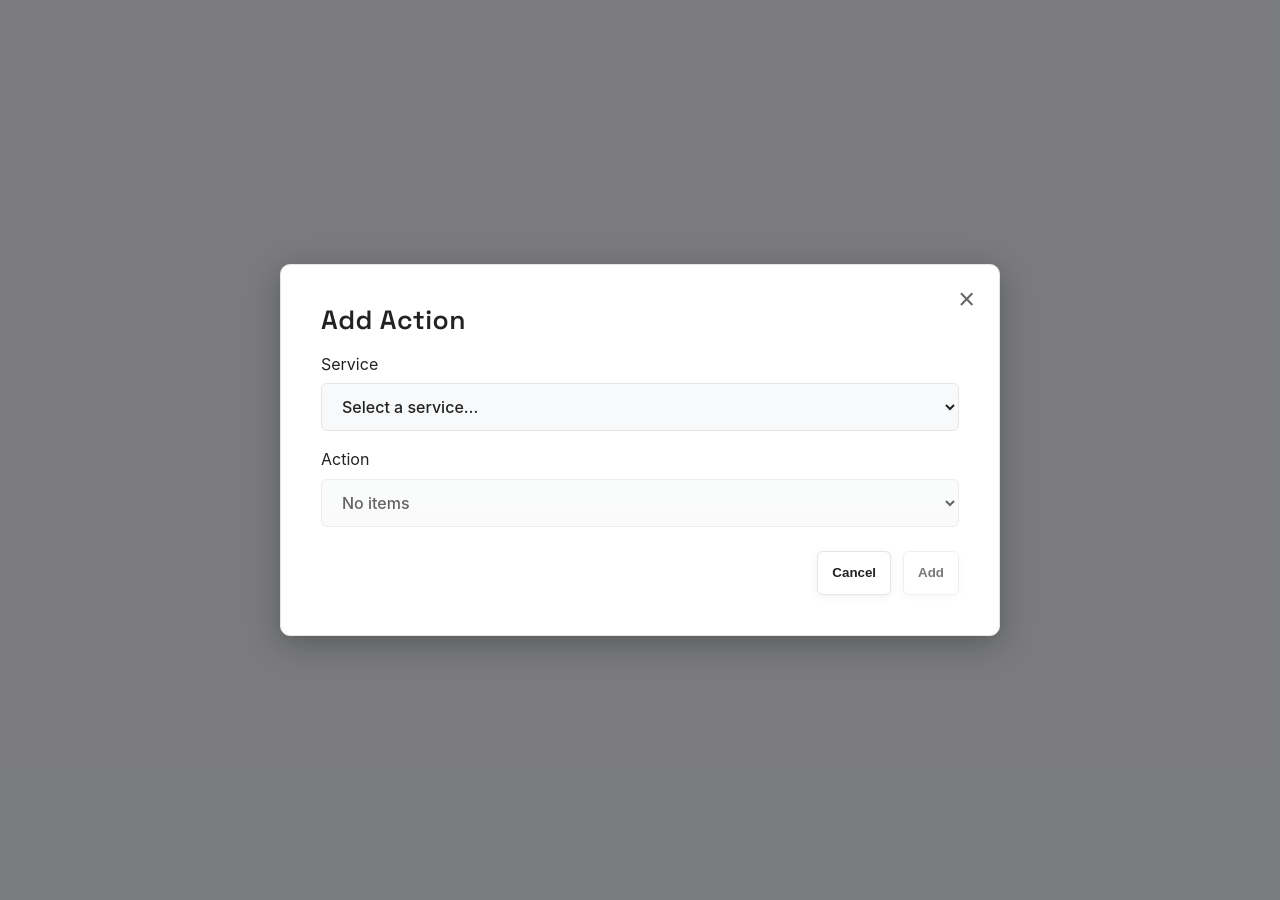
Test case: ServicePicker › should fetch and display items for connected service
Select "ServiceA" in the dropdown labelled "Service". click: (640, 407)
box: [321,383,959,431]
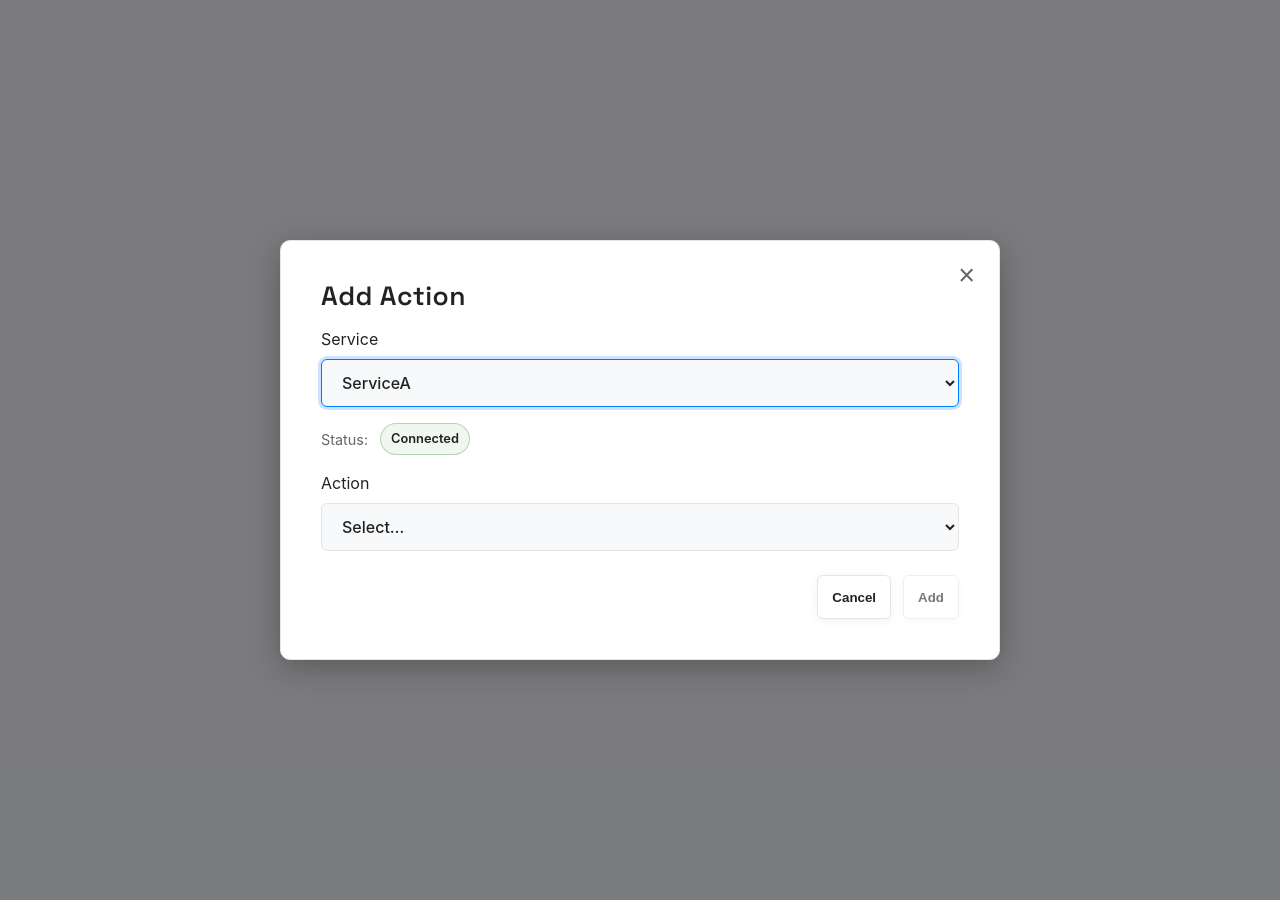
Expected: the dropdown labelled "Action" is enabled, [321,503,959,551]
